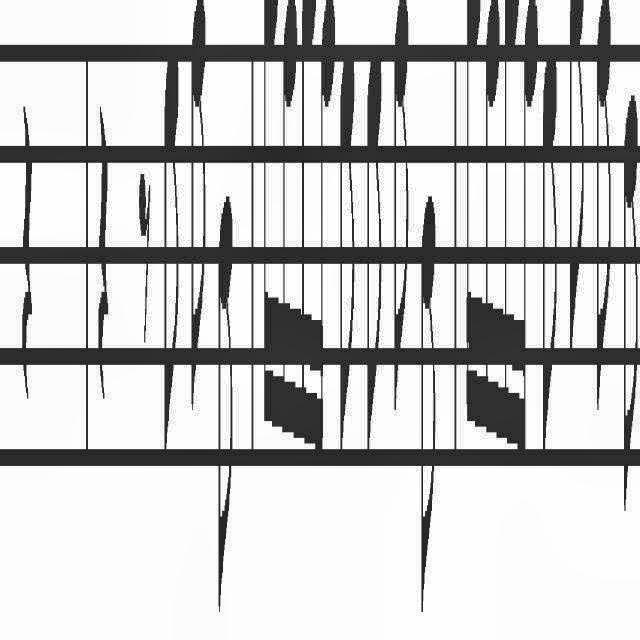Eighth-note: (419, 178, 436, 622), (594, 1, 612, 416), (622, 84, 638, 520), (565, 0, 584, 364), (164, 43, 180, 473), (542, 50, 558, 470), (218, 196, 234, 612), (339, 40, 355, 456), (366, 38, 382, 454), (190, 0, 206, 410), (393, 0, 409, 410)
Eighth-rest: (138, 160, 152, 352)
Quarter-rest: (20, 84, 34, 408), (98, 91, 110, 421)
Sixteenth-note: (501, 0, 519, 476), (519, 0, 537, 466), (482, 1, 500, 456), (300, 0, 316, 472), (281, 0, 297, 466), (318, 0, 334, 460), (262, 0, 278, 438), (466, 1, 480, 456)
